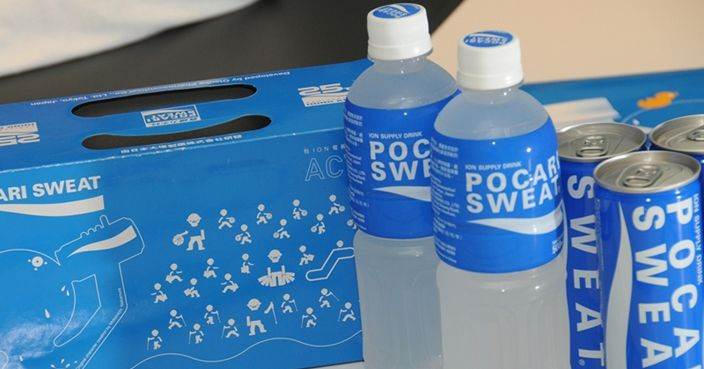POCARI SWEAT: (435, 14, 572, 369), (333, 4, 432, 369)
